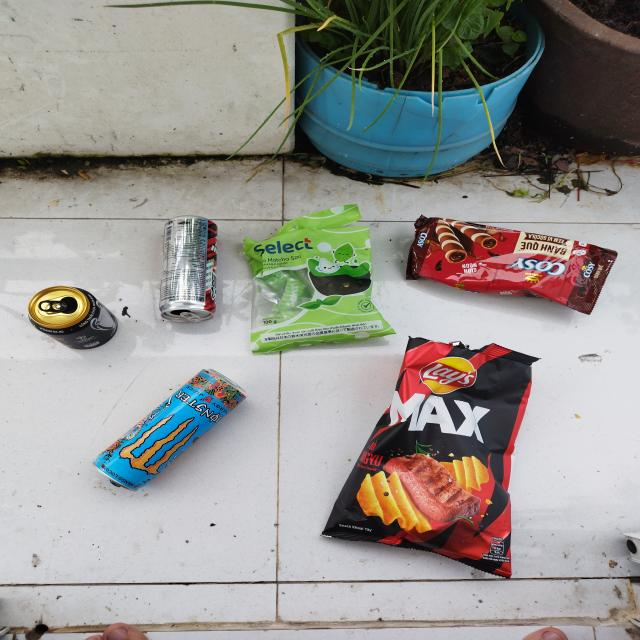can: (92, 368, 247, 493), (158, 214, 218, 322), (28, 285, 119, 350)
snack package: (318, 335, 543, 579), (243, 203, 398, 355), (404, 214, 619, 317)
